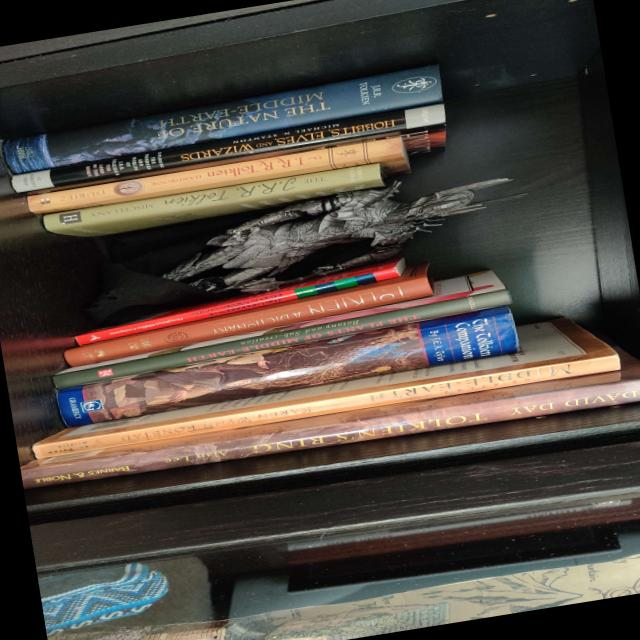book: (17, 347, 640, 498), (24, 310, 621, 463), (54, 305, 519, 430), (49, 267, 512, 390), (2, 64, 443, 176), (61, 262, 435, 378), (10, 103, 447, 195), (25, 136, 410, 233), (73, 257, 407, 348), (42, 162, 385, 244)
